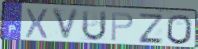O: (166, 13, 194, 46)
P: (110, 12, 135, 43)
U: (80, 9, 108, 42)
V: (50, 7, 82, 43)
X: (24, 7, 50, 41)
Z: (137, 12, 164, 44)
